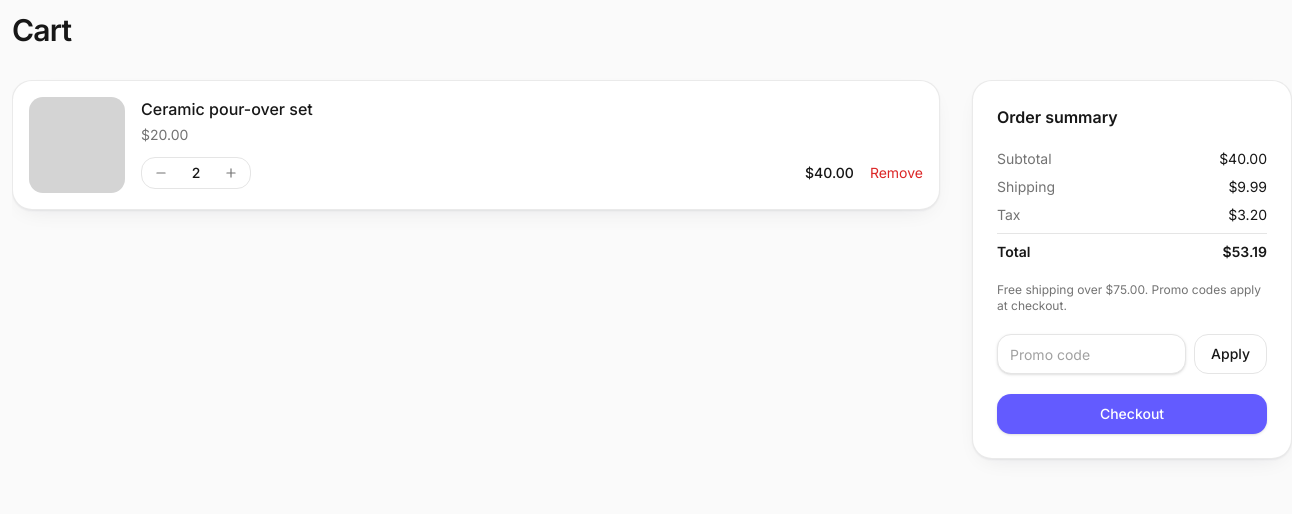
Cart page › lets the shopper change quantity, remove a line, and save a promo code
Expected: the link "Ceramic pour-over set" is shown, [141,99,313,119]
Click the button named "increase quantity" at point(231, 173), box [212,158,250,188]
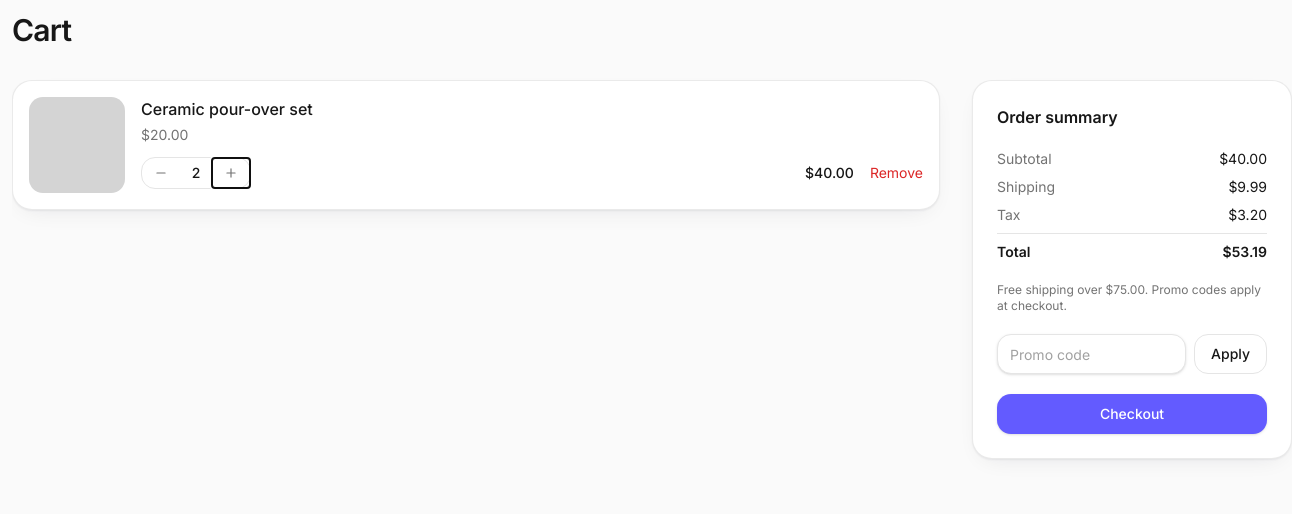
Click the button "Remove" at point(896, 173), box [870,163,923,183]
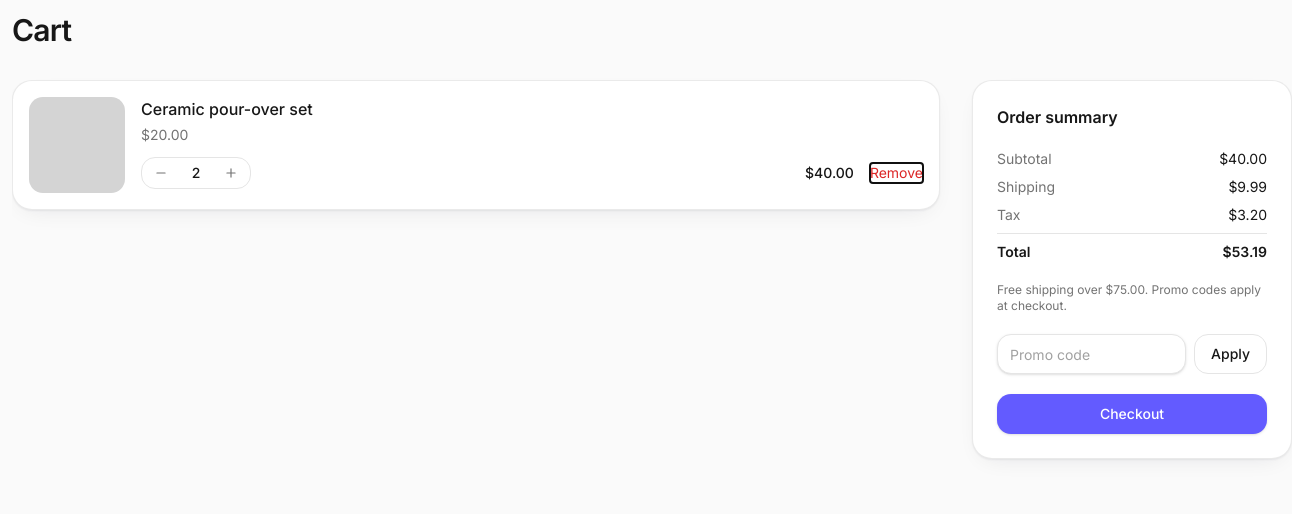
Type "save10" into the field with placeholder "Promo code" at point(1092, 354), box [997,334,1186,374]
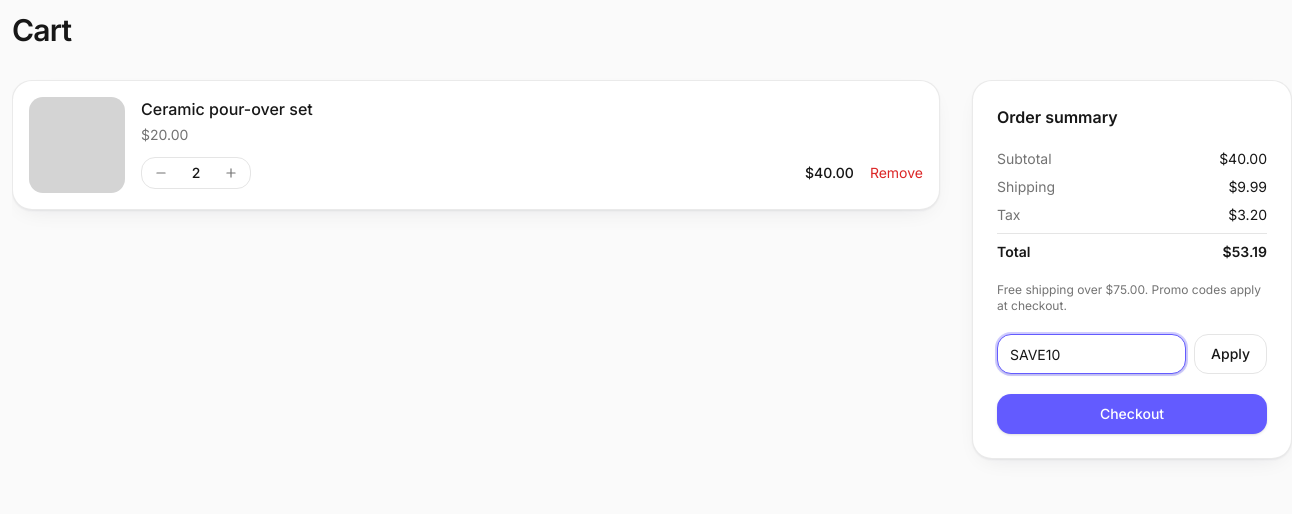
Click the button "Apply" at point(1231, 354), box [1194,334,1267,374]
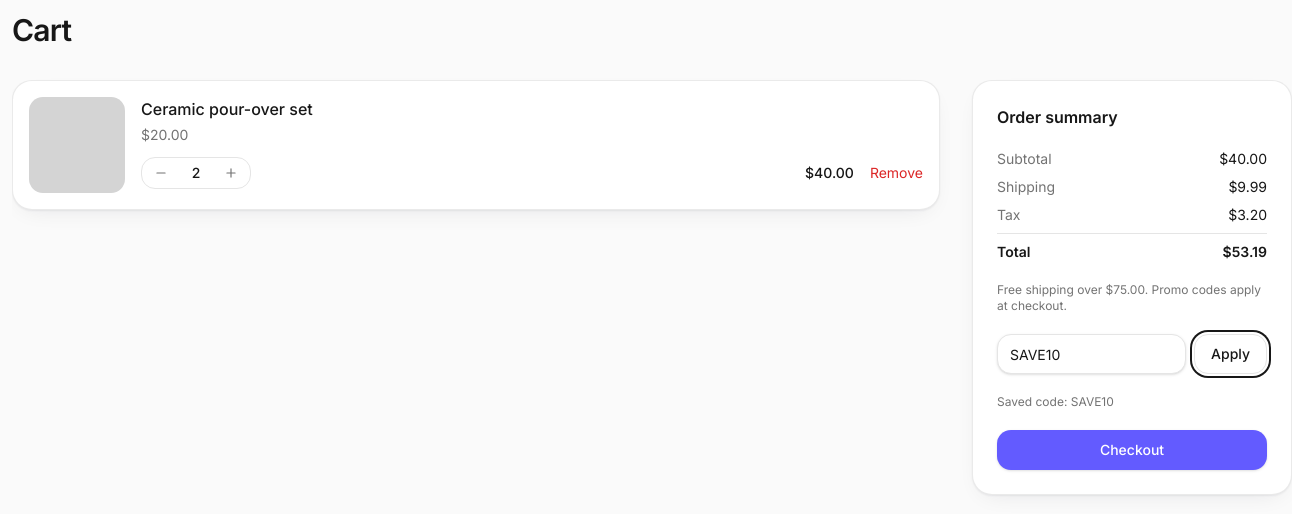
Result: the text "Saved code: SAVE10" is shown at [997,394,1114,409]
